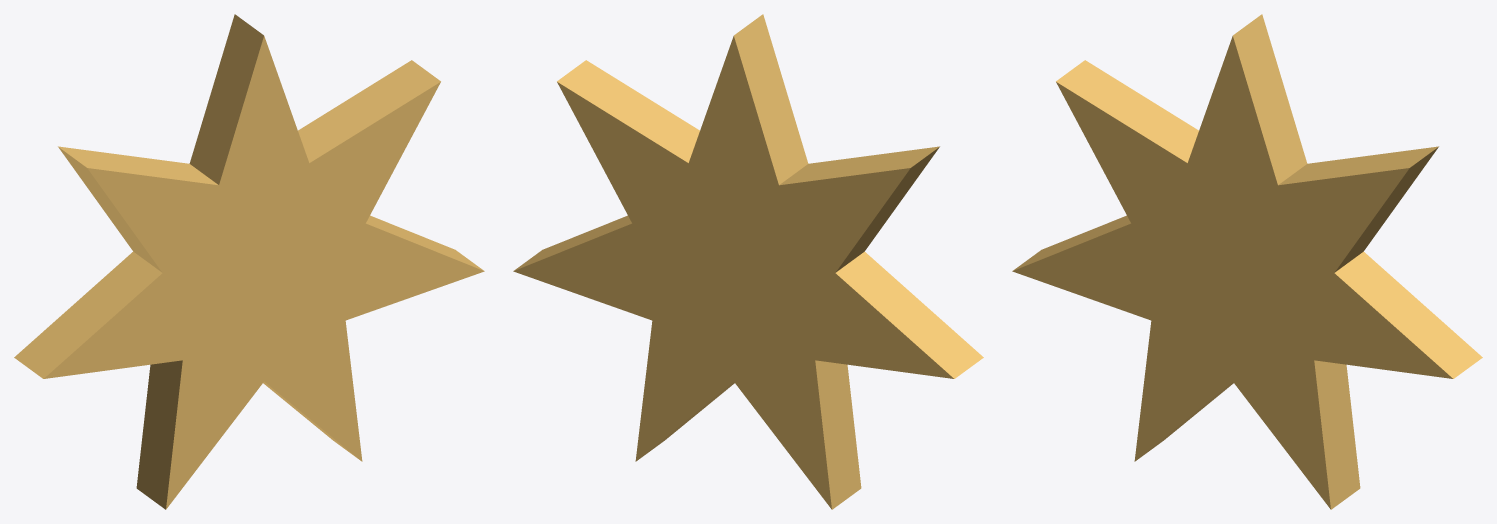
File: Impact_Star.glb
3 views of the same model, side by side, from view 1: azimuth 30°, elevation 25°; view 2: azimuth 150°, elevation 25°; view 3: azimuth 330°, elevation 25° (orthographic).
Parts seen in each view (by area): view 1: Impact_Star; view 2: Impact_Star; view 3: Impact_Star.
Boxes of the visible parts, x1=… form: Impact_Star: x1=14, y1=14, x2=484, y2=509; Impact_Star: x1=513, y1=14, x2=983, y2=509; Impact_Star: x1=1012, y1=14, x2=1482, y2=509.
Size of the model in its own units: 0.39 by 0.3802 by 0.045.
